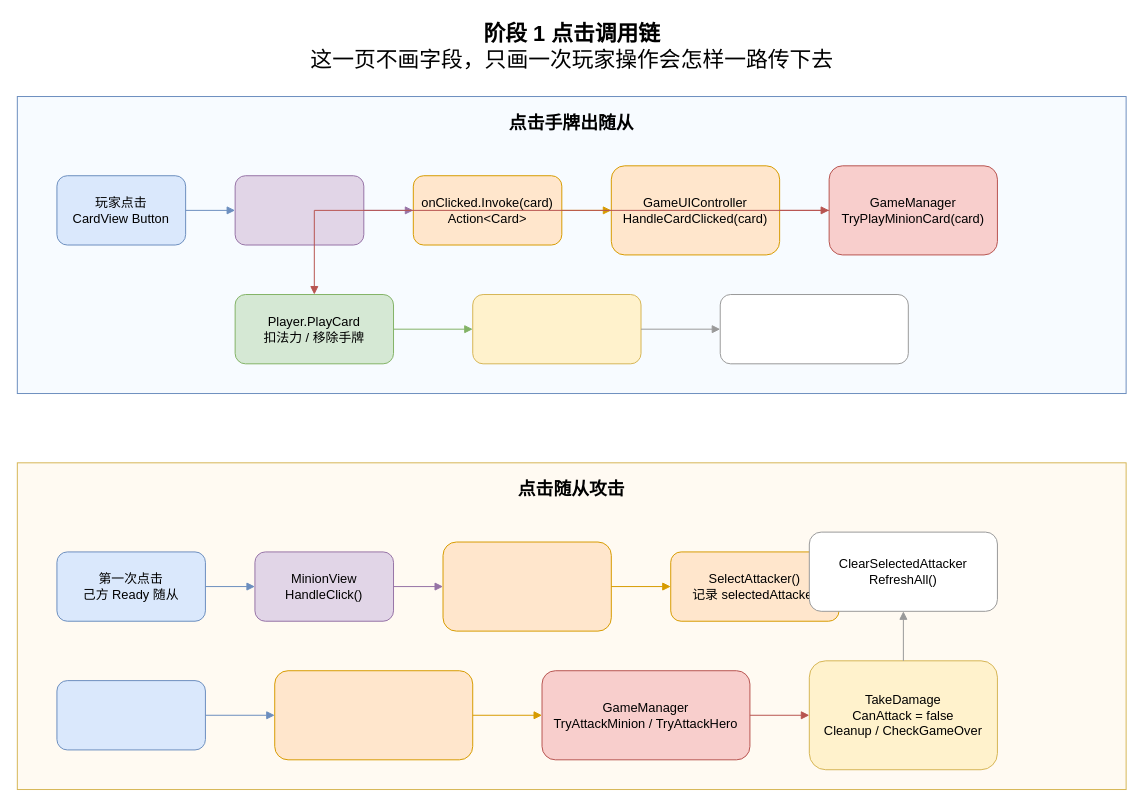
Some shapes in this 1143 by 807 pixel diagram are drawn without their labels. Each missing label, with the centre of its shape:
"CardView HandleClick()" belongs at (299,210).
"GameUIController HandleMinionClicked()" belongs at (526,586).
"new Minion Board.SummonMinion" belongs at (556,329).
"RefreshAll() 重读 Core 状态刷新 UI" belongs at (813,329).
"TryAttackSelectedTarget() 或 TryAttackSelectedHero()" belongs at (373,715).
"第二次点击 敌方随从 / 英雄" belongs at (130,715).
